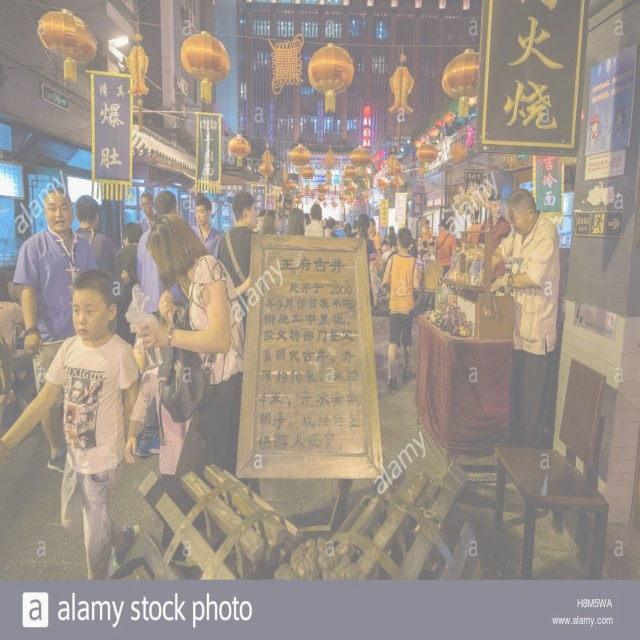pessoa: (136, 211, 276, 581), (0, 266, 143, 581), (11, 186, 99, 474), (478, 186, 558, 446), (122, 297, 190, 490), (134, 188, 192, 318), (382, 227, 422, 390), (216, 190, 258, 342), (0, 267, 39, 415), (72, 194, 130, 287), (476, 193, 512, 295), (243, 208, 282, 293), (350, 212, 377, 310), (190, 194, 223, 260), (116, 220, 144, 287), (366, 218, 384, 315), (432, 218, 458, 278), (434, 222, 454, 278), (134, 190, 159, 234), (304, 202, 333, 238), (422, 241, 436, 312), (409, 244, 423, 302), (466, 208, 482, 248), (285, 206, 305, 236), (418, 239, 430, 285), (410, 209, 423, 248), (380, 238, 398, 266), (376, 240, 389, 276), (254, 208, 268, 234), (421, 218, 433, 248), (325, 217, 340, 237), (388, 225, 398, 250), (334, 220, 346, 238), (302, 212, 312, 228), (343, 222, 353, 237), (322, 217, 328, 226)
